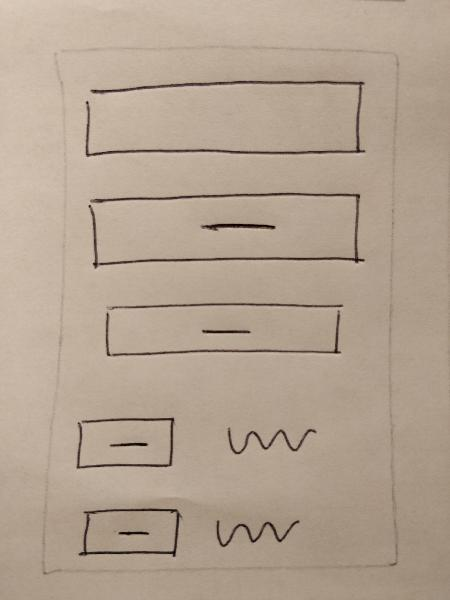button: (80, 190, 371, 273), (96, 297, 347, 367), (72, 412, 184, 478), (74, 497, 186, 563)
text: (219, 412, 323, 463), (207, 504, 311, 555)
text_input: (81, 78, 370, 168)
